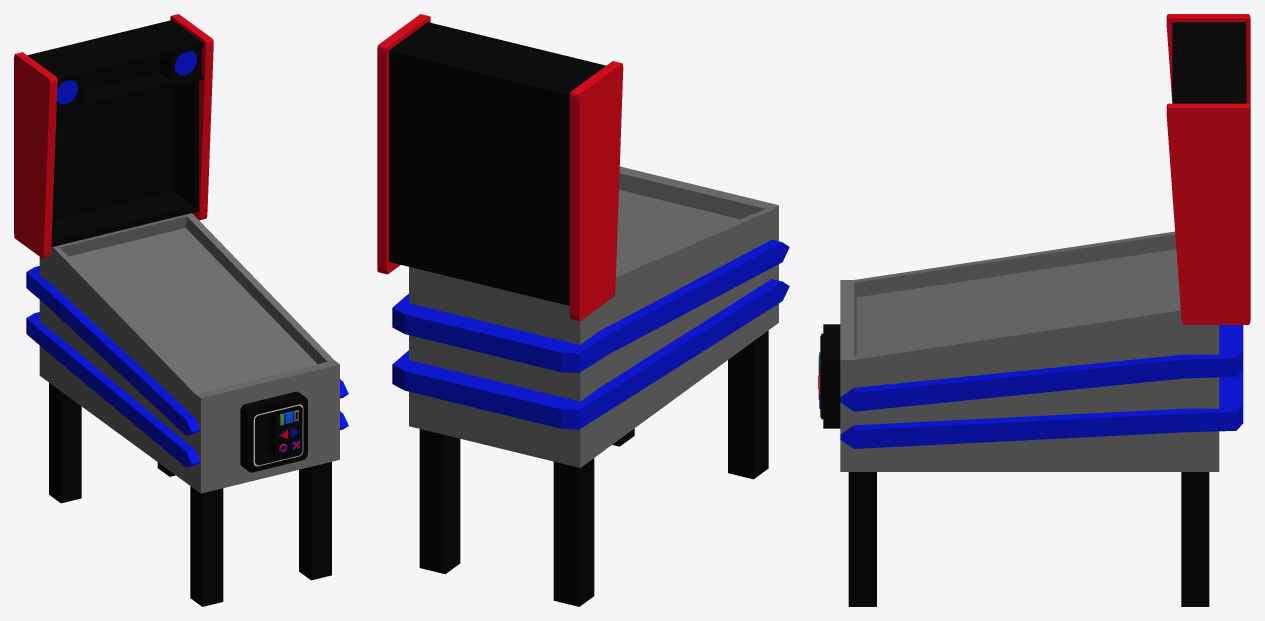
File: LevelSelectPinballMachineTest.fbx
The picture shows the model from 3 angles, left to right: view 1: azimuth 30°, elevation 25°; view 2: azimuth 150°, elevation 25°; view 3: azimuth 270°, elevation 25°; orthographic projection. The views are drawn at different scales.
Visible parts, largest first — view 1: MainBody, MidPoster, Legs, TopSides, TopHeader, Main; view 2: MainBody, MidPoster, Legs, TopSides, TopHeader; view 3: MainBody, TopSides, Legs, TopHeader, Main.
Part boxes in pixels (left/top/right/bottom): MainBody: left=26, top=213, right=348, bottom=493; MidPoster: left=51, top=81, right=198, bottom=247; Legs: left=49, top=383, right=331, bottom=606; TopSides: left=14, top=14, right=213, bottom=258; TopHeader: left=27, top=20, right=203, bottom=115; Main: left=240, top=391, right=307, bottom=472; MainBody: left=392, top=166, right=789, bottom=467; MidPoster: left=389, top=96, right=569, bottom=305; Legs: left=419, top=330, right=768, bottom=606; TopSides: left=377, top=14, right=623, bottom=321; TopHeader: left=389, top=22, right=605, bottom=139; MainBody: left=840, top=231, right=1243, bottom=471; TopSides: left=1166, top=14, right=1250, bottom=324; Legs: left=848, top=472, right=1209, bottom=606; TopHeader: left=1172, top=22, right=1246, bottom=103; Main: left=818, top=324, right=840, bottom=428.
Bounding box in the file's own units: 76.11 × 192 × 148.
